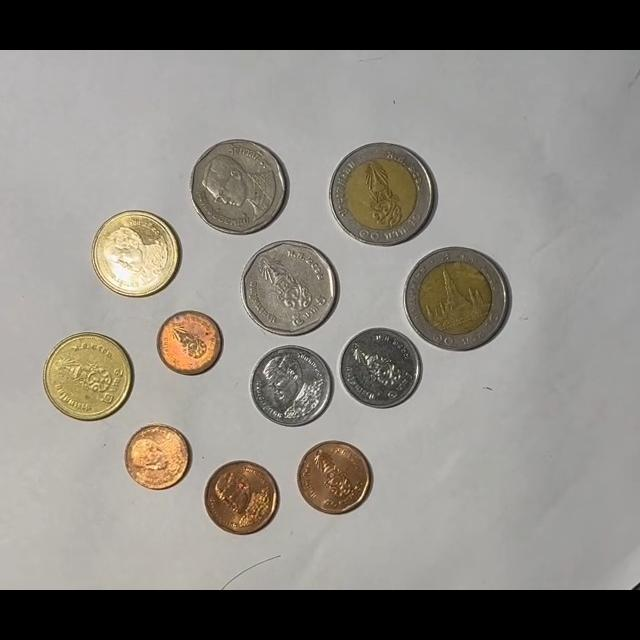1-baht: (249, 345, 333, 428), (339, 327, 422, 409)
10-baht: (329, 142, 436, 247), (404, 246, 510, 351)
2-baht: (43, 332, 133, 422), (91, 210, 180, 299)
25-satang: (124, 424, 192, 491), (157, 310, 223, 375)
5-baht: (240, 240, 339, 337), (190, 139, 289, 236)
50-satang: (204, 460, 280, 536), (296, 441, 372, 515)
